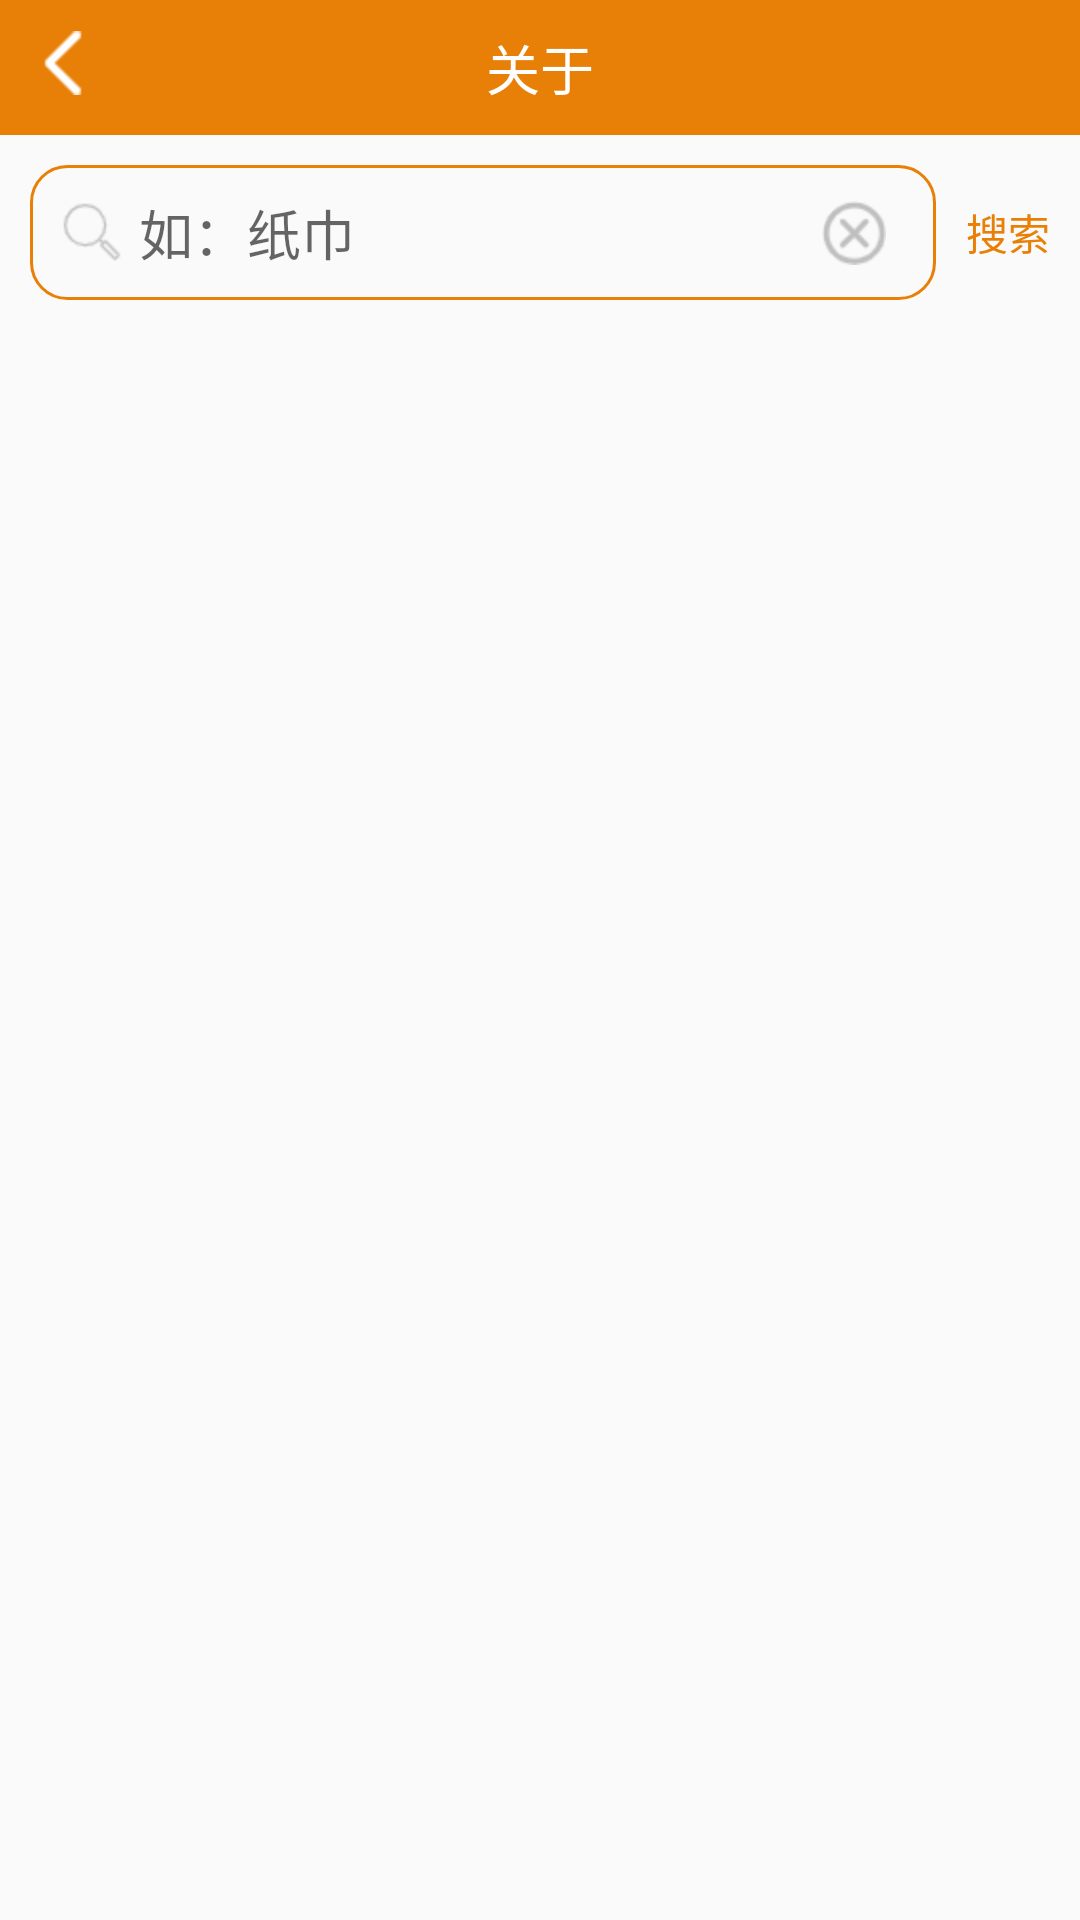

Icon click points for this 1080px×1920px phone screenshot, format [x,y]:
back: [63,63]
delete: [855,234]
